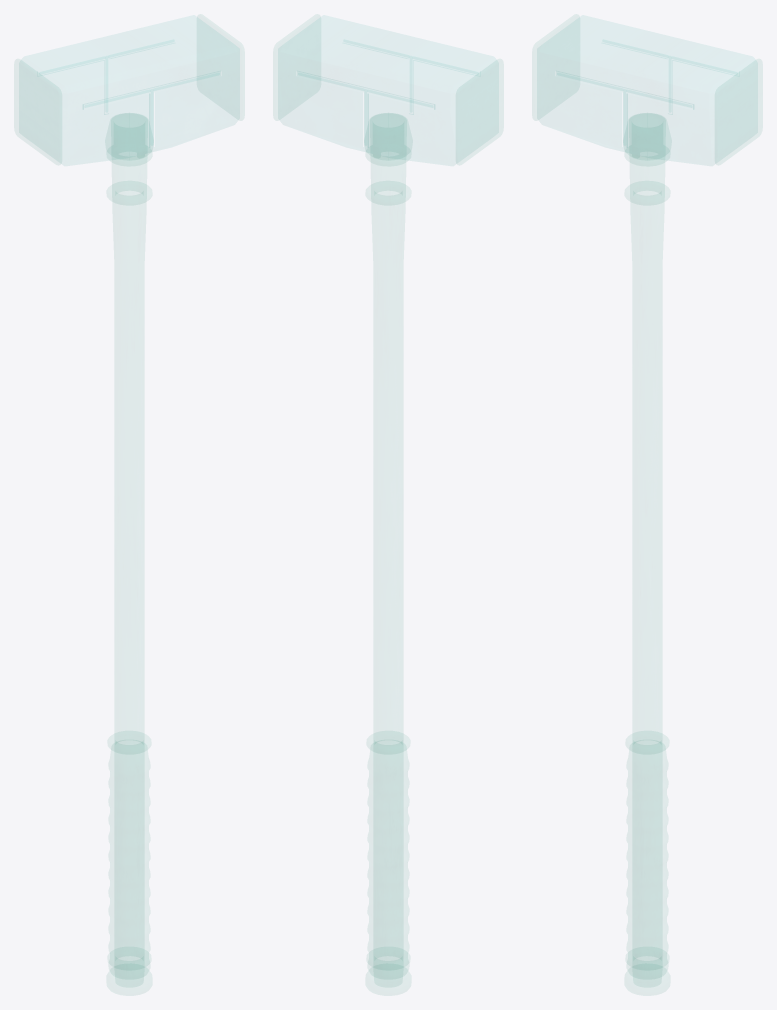
File: Tool_assembly_tool.glb
The picture shows the model from 3 angles, left to right: view 1: azimuth 30°, elevation 25°; view 2: azimuth 150°, elevation 25°; view 3: azimuth 330°, elevation 25°; orthographic projection.
Parts seen in each view (by area): view 1: AncientMalletBronze; view 2: AncientMalletBronze; view 3: AncientMalletBronze.
Part boxes in pixels (x1,y1,x2,y2): AncientMalletBronze: [107, 113, 151, 987]; AncientMalletBronze: [366, 113, 410, 987]; AncientMalletBronze: [625, 113, 669, 987].
Size of the model in its own units: 0.2177 by 1.05 by 0.0945.
Materials: 4 (3 with a texture image).
